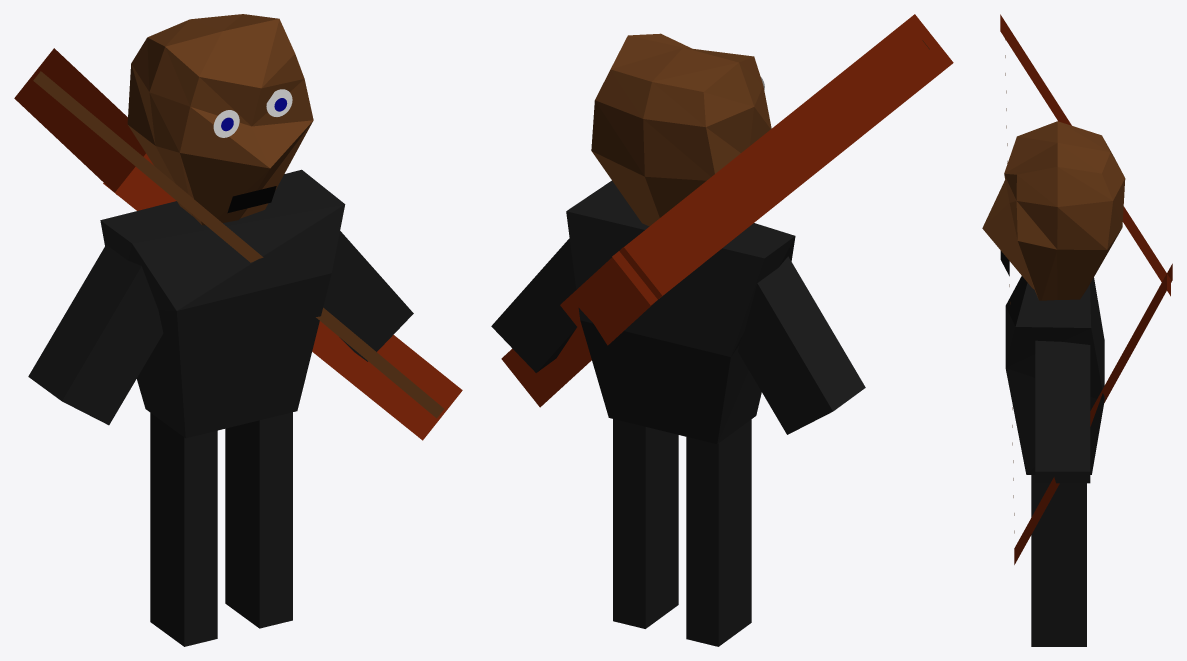
File: heavyarcher1.obj
3 renders of one model, left to right at view 1: azimuth 30°, elevation 25°; view 2: azimuth 150°, elevation 25°; view 3: azimuth 270°, elevation 25°, orthographic. The views are drawn at different scales.
Visible parts, largest first — view 1: Cube.001, Cube, Cube.004, Cube.005, Cube.003, Plane.001_Plane.002, Plane.002_Plane.003, Plane.003_Plane.004, Cube.002, Plane; view 2: Cube.001, Plane.002_Plane.003, Cube, Cube.004, Cube.005, Cube.003, Plane.001_Plane.002, Cube.002; view 3: Cube, Cube.001, Cube.005, Cube.002, Plane.001_Plane.002, Plane.002_Plane.003.
Part boxes in pixels (<box>): Cube.001: <box>100,169,345,438</box>; Cube: <box>127,14,313,225</box>; Cube.004: <box>150,413,217,646</box>; Cube.005: <box>225,412,292,628</box>; Cube.003: <box>28,244,163,425</box>; Plane.001_Plane.002: <box>103,153,462,440</box>; Plane.002_Plane.003: <box>14,48,145,194</box>; Plane.003_Plane.004: <box>33,71,443,418</box>; Cube.002: <box>323,231,413,361</box>; Plane: <box>227,186,276,213</box>; Cube.001: <box>566,180,795,444</box>; Plane.002_Plane.003: <box>612,14,953,305</box>; Cube: <box>591,33,771,226</box>; Cube.004: <box>686,419,751,646</box>; Cube.005: <box>613,419,678,628</box>; Cube.003: <box>738,256,865,434</box>; Plane.001_Plane.002: <box>501,247,662,407</box>; Cube.002: <box>491,238,576,372</box>; Cube: <box>982,121,1125,300</box>; Cube.001: <box>1005,276,1104,474</box>; Cube.005: <box>1031,475,1086,646</box>; Cube.002: <box>1035,340,1090,483</box>; Plane.001_Plane.002: <box>1014,263,1172,564</box>; Plane.002_Plane.003: <box>1000,14,1170,296</box>.
Bounding box in the file's own units: 4.75 × 6.44 × 2.1.
